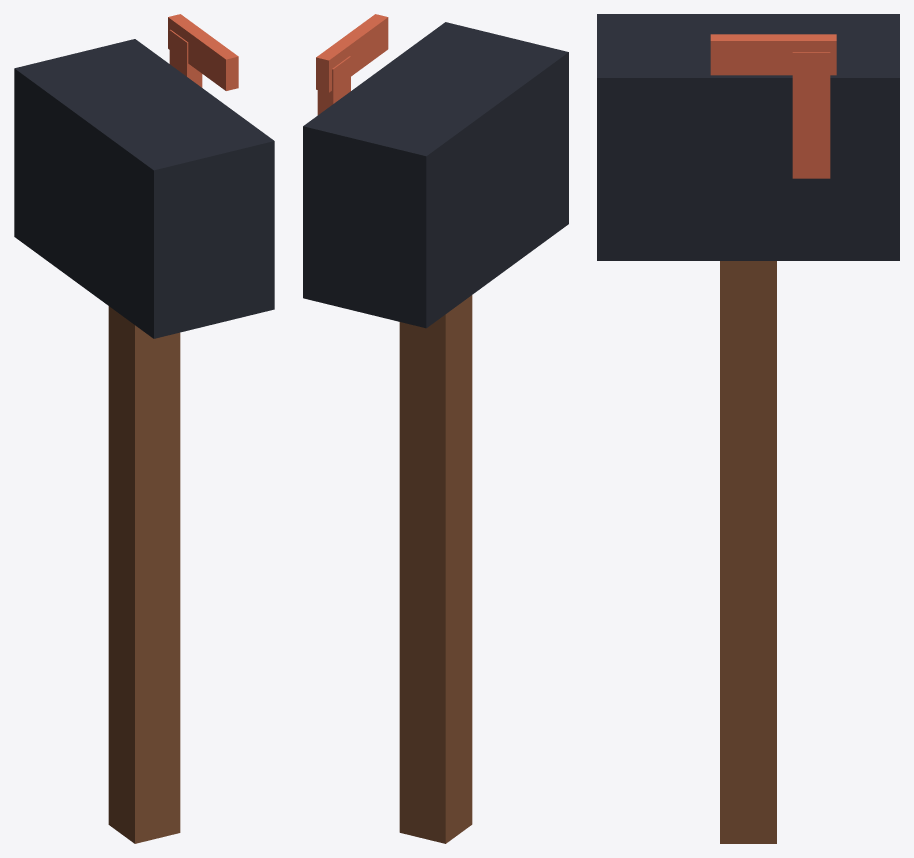
File: millers_mailbox.glb
3 renders of one model, left to right at view 1: azimuth 30°, elevation 25°; view 2: azimuth 150°, elevation 25°; view 3: azimuth 270°, elevation 25°, orthographic. The views are drawn at different scales.
Parts seen in each view (by area): view 1: Box1, Box2, Box3, Box5, Box4; view 2: Box1, Box2, Box3, Box5, Box4; view 3: Box2, Box1, Box3, Box4, Box5.
Boxes of the visible parts, left/top/right/bottom form: Box1: left=108, top=306, right=180, bottom=843; Box2: left=14, top=111, right=274, bottom=338; Box3: left=14, top=39, right=274, bottom=222; Box5: left=168, top=14, right=238, bottom=90; Box4: left=169, top=29, right=202, bottom=87; Box1: left=399, top=295, right=472, bottom=843; Box2: left=303, top=95, right=568, bottom=328; Box3: left=303, top=22, right=568, bottom=209; Box5: left=316, top=14, right=388, bottom=92; Box4: left=317, top=56, right=350, bottom=114; Box2: left=597, top=123, right=899, bottom=260; Box1: left=720, top=261, right=776, bottom=843; Box3: left=597, top=14, right=899, bottom=134; Box4: left=792, top=52, right=830, bottom=178; Box5: left=710, top=34, right=836, bottom=75.
Size of the model in its own units: 0.275 by 1.45 by 0.48.
